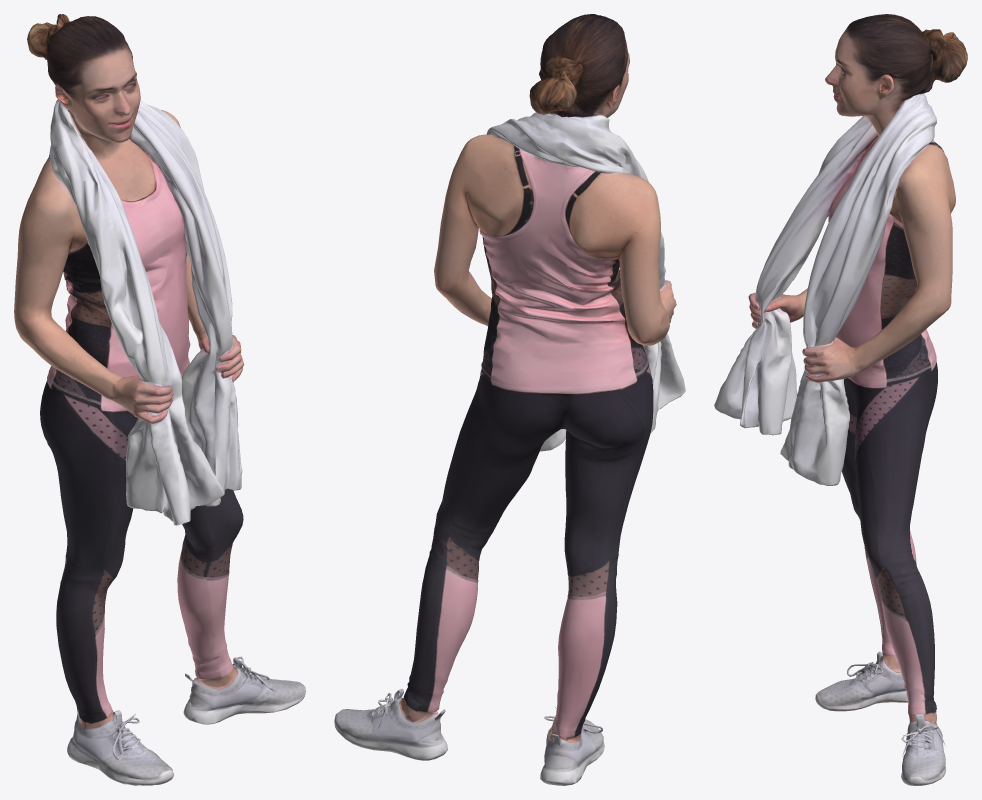
File: woman-sport.glb
The picture shows the model from 3 angles, left to right: view 1: azimuth 30°, elevation 25°; view 2: azimuth 150°, elevation 25°; view 3: azimuth 270°, elevation 25°; orthographic projection. The views are drawn at different scales.
Visible parts, largest first — view 1: Object_2; view 2: Object_2; view 3: Object_2.
Part boxes in pixels (box(x1,y1,x2,y2)): Object_2: box(14, 14, 305, 785); Object_2: box(334, 14, 685, 785); Object_2: box(714, 14, 967, 785).
Bounding box in the file's own units: 0.7006 × 1.65 × 0.5615.
1 material, 1 textured.
